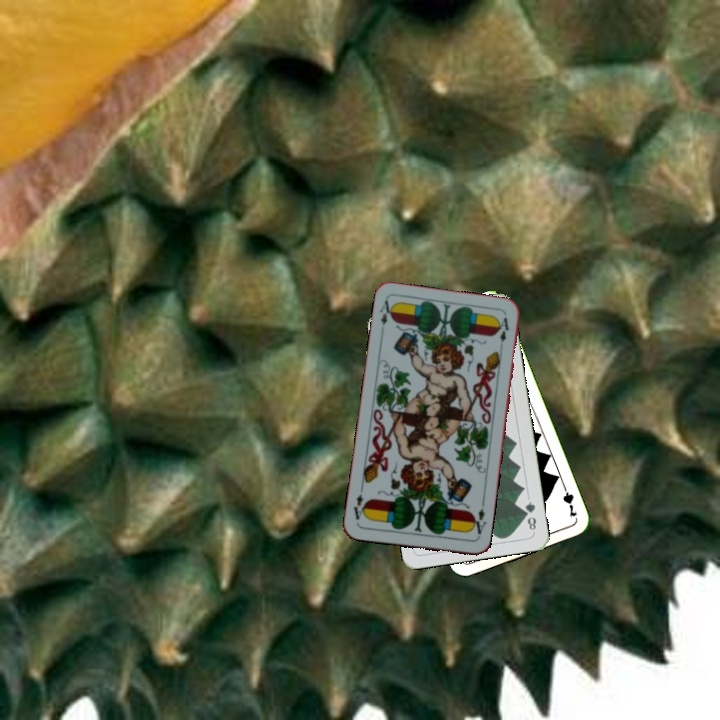EA: (467, 499, 488, 540), (375, 296, 396, 327)
G7: (558, 479, 580, 520)
G8: (520, 497, 539, 533)
